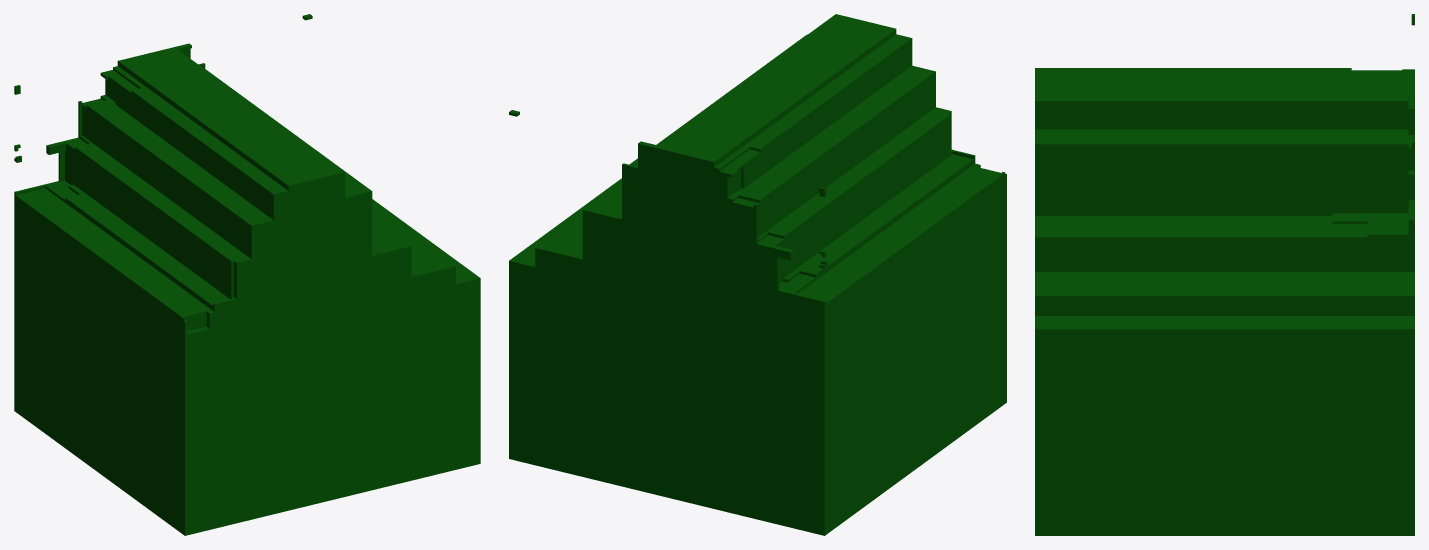
The picture shows the model from 3 angles, left to right: view 1: azimuth 30°, elevation 25°; view 2: azimuth 150°, elevation 25°; view 3: azimuth 270°, elevation 25°; orthographic projection. The views are drawn at different scales.
Parts seen in each view (by area): view 1: Default; view 2: Default; view 3: Default.
Part boxes in pixels (box(x1,y1,x2,y2)): Default: box(14, 14, 480, 535); Default: box(509, 14, 1006, 535); Default: box(1035, 14, 1414, 535).
Bounding box in the file's own units: 120 × 126 × 120.
Materials: 1 (1 with a texture image).
